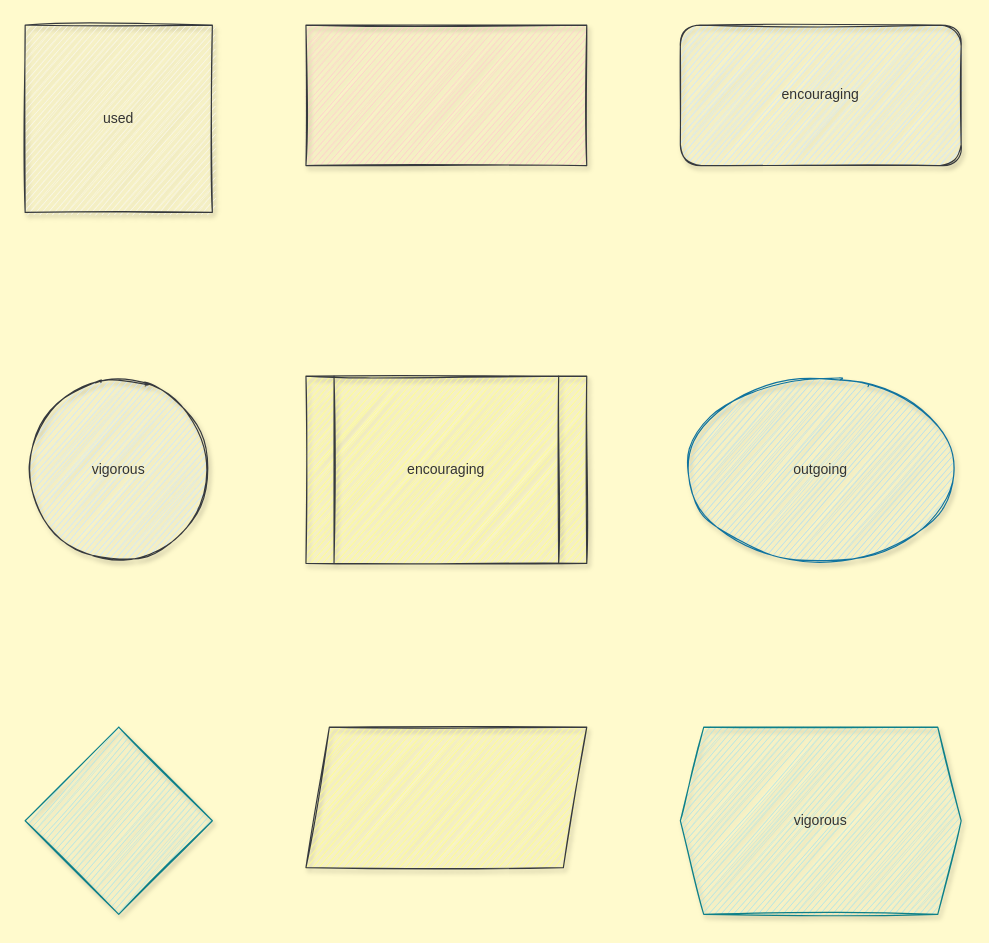
Image size: 989x943. Some labels were removed from this diagram. The shapes that lost their labels are listed below. From the top down, each one's centre as x and y in pixels, then its label:
At point (447, 96): "umbrella".
At point (447, 798): "hover".
At point (119, 822): "horses".
